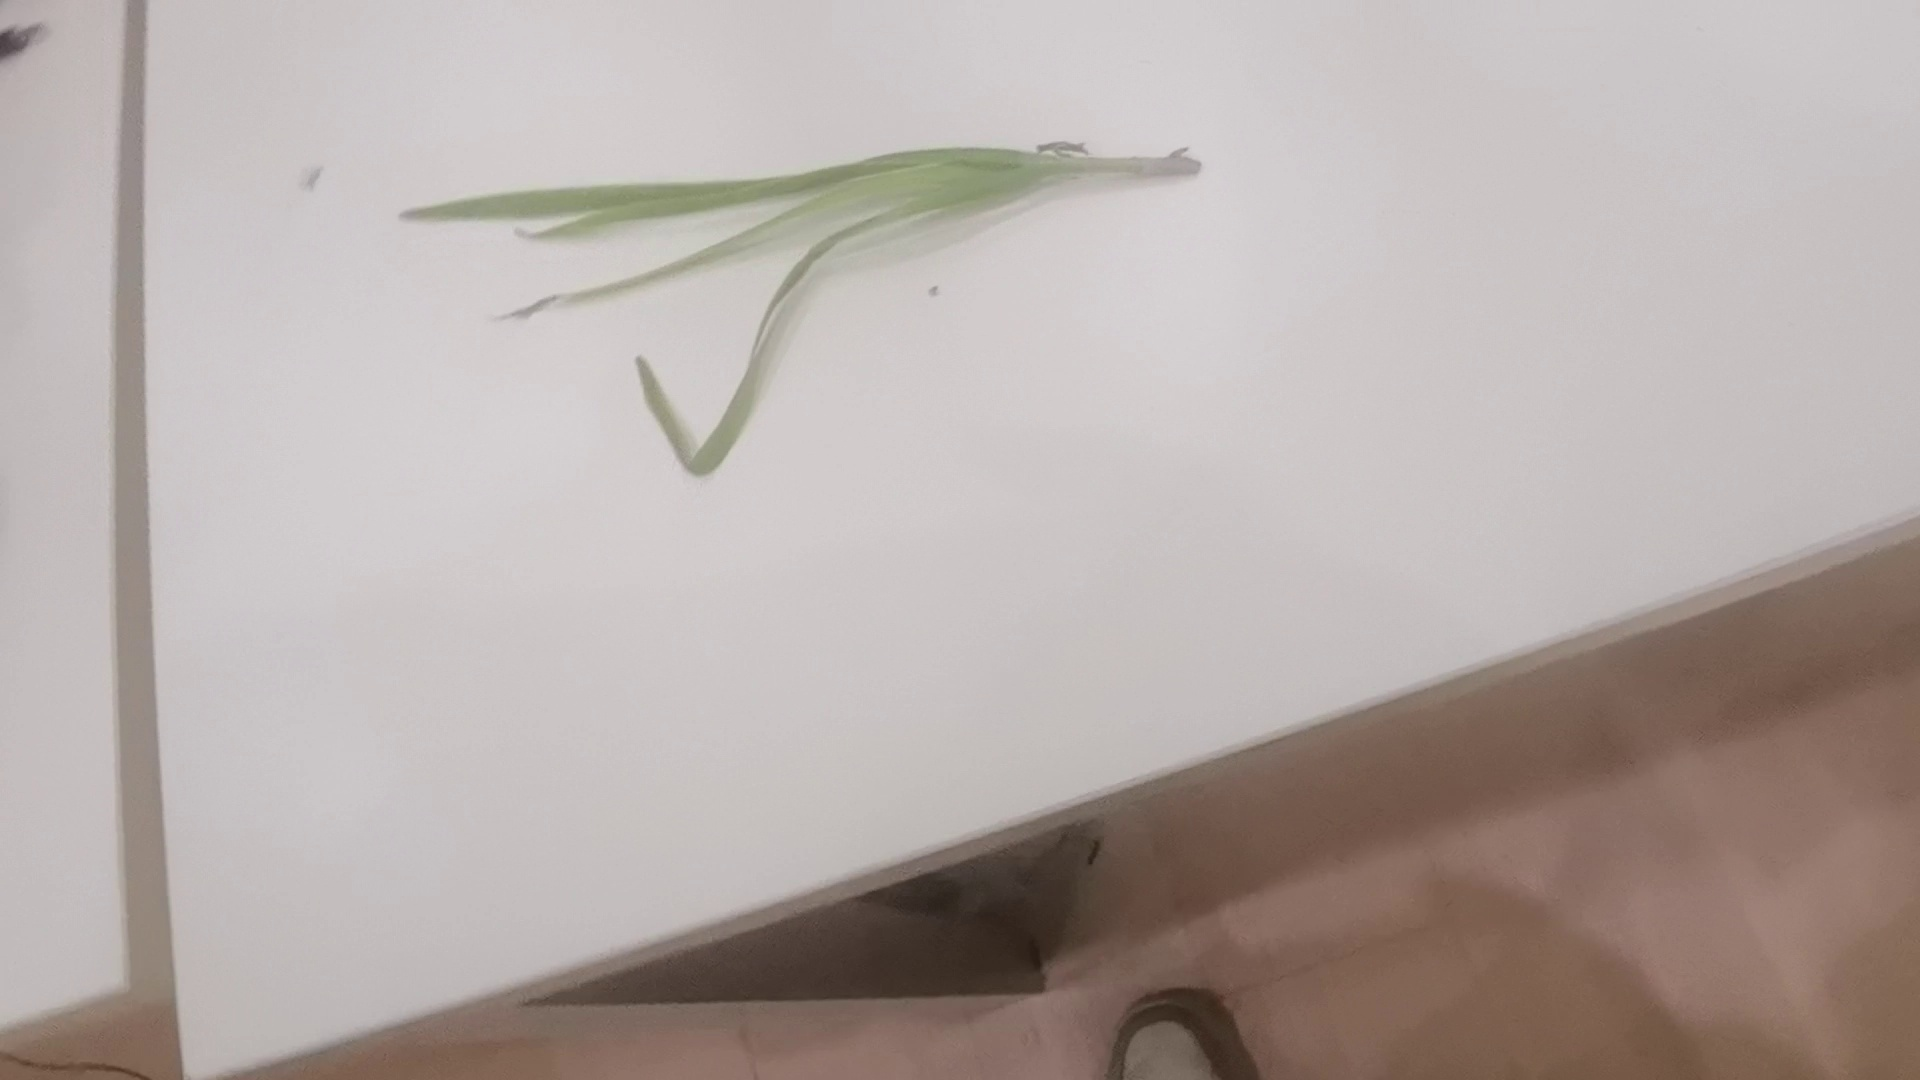chives: (384, 127, 1212, 527)
